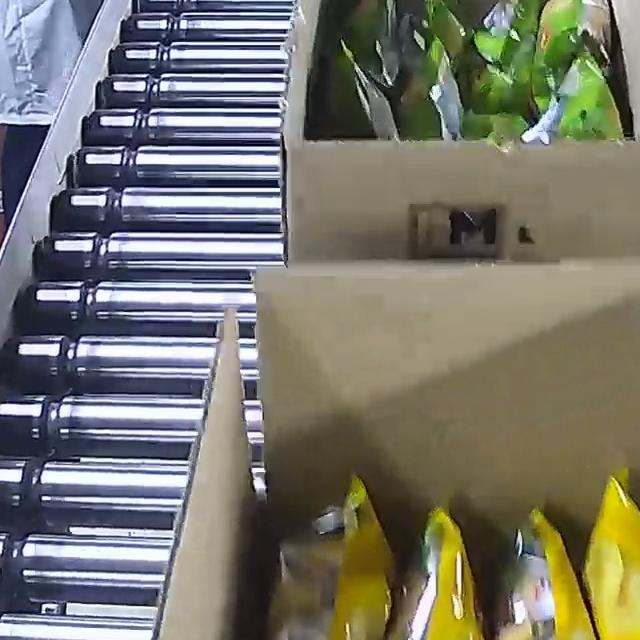salted: (245, 412, 640, 640)
yogurt: (327, 0, 615, 147)
